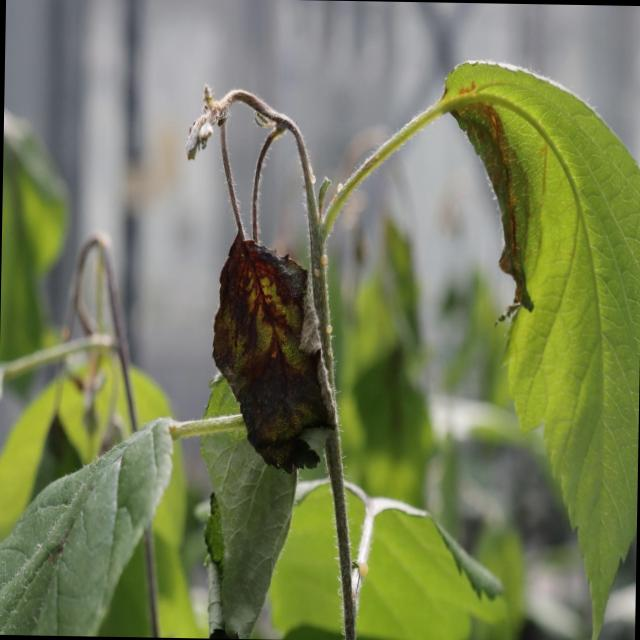-FireBlight-: (188, 77, 353, 478)
